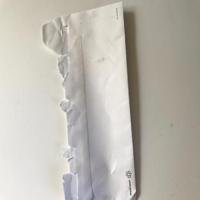paper: (36, 0, 140, 200)
